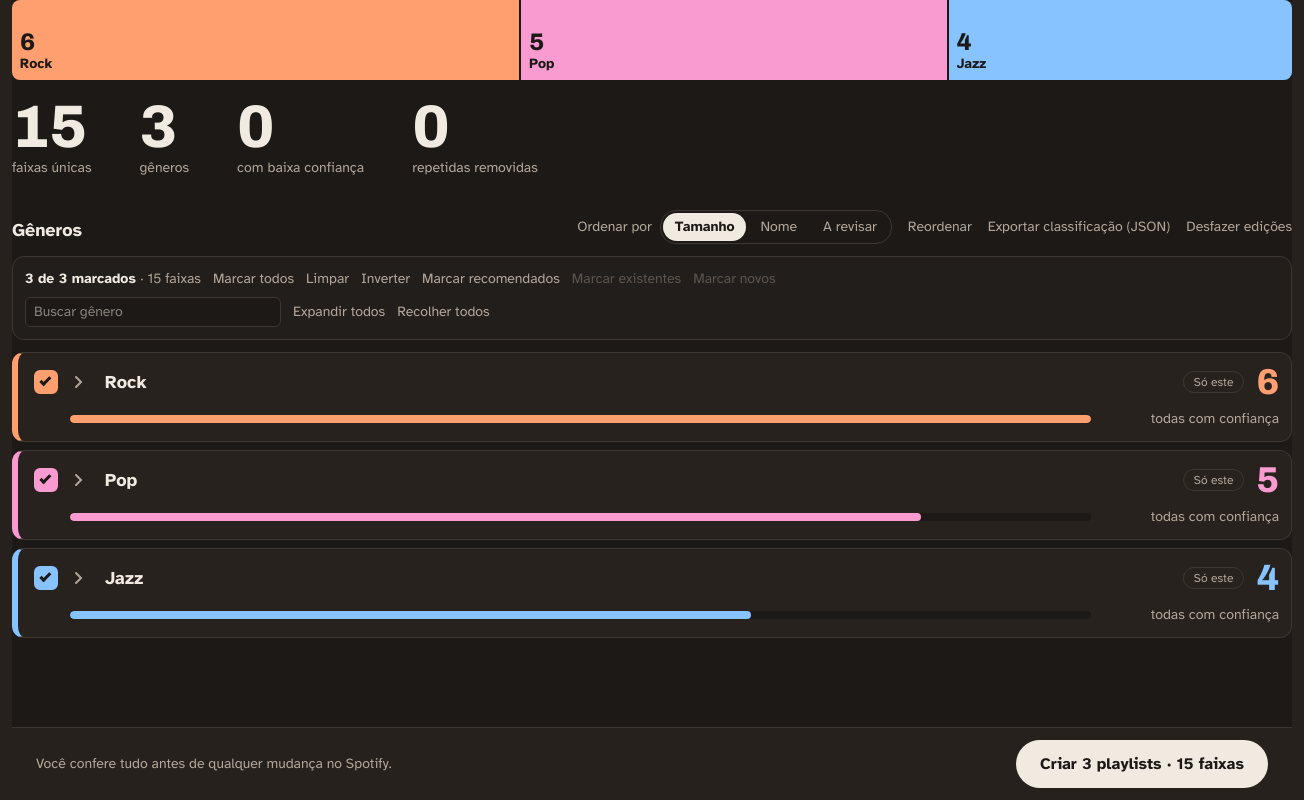
Test: footer › shows checked genres and their tracks, and follows every change
expect the button "Criar 3 playlists · 15 faixas" is shown: met, box [1016,740,1268,788]
expect the text "3 de 3 marcados · 15 faixas" is shown: met, box [25,269,201,289]
What coordinates should you click on to do the following:
click the button with aria-label "Marcar só Jazz"
I would click on:
 (1214, 578)
Its box is [1183,567,1244,589].
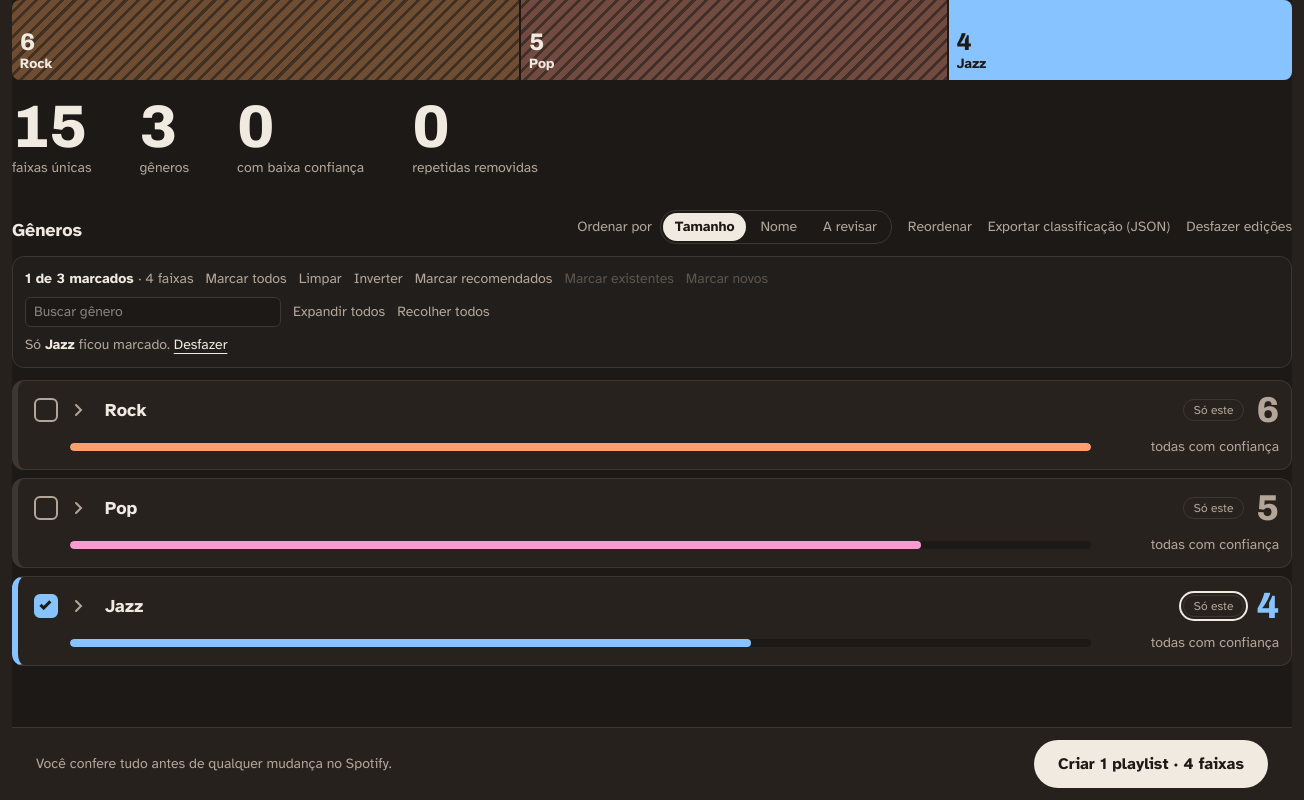
expect the button "Criar 1 playlist · 4 faixas" is shown: met, box [1034,740,1268,788]
What coordinates should you click on to do the following:
click the button "Limpar"
I would click on:
 (320, 279)
Its box is [299,269,342,289].
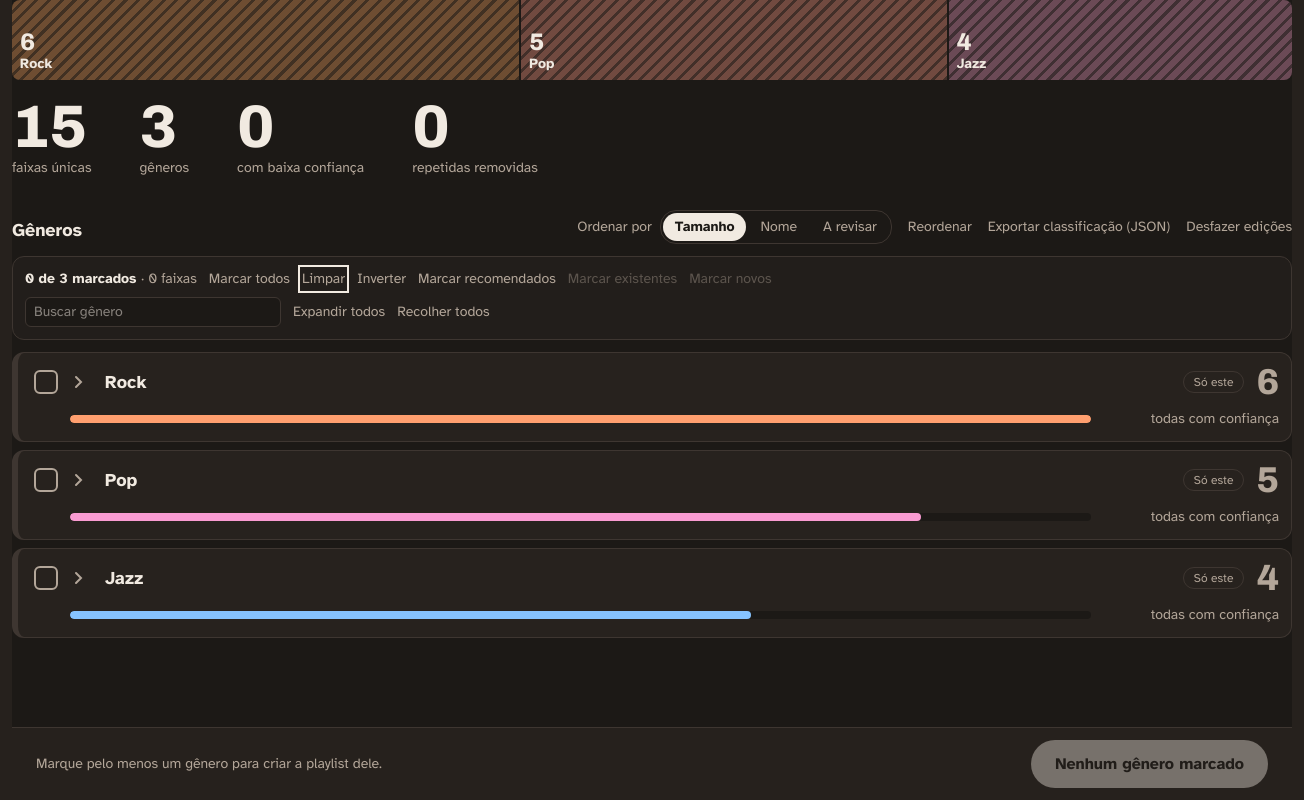
expect the button "Nenhum gênero marcado" is shown: met, box [1031,740,1268,788]
